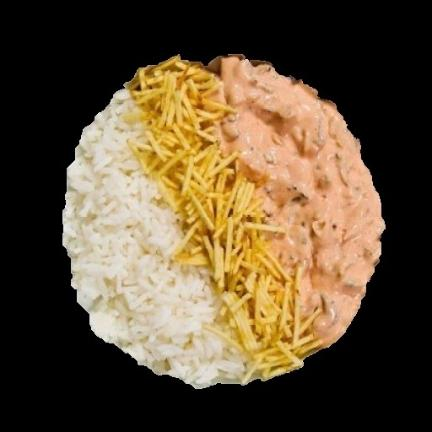chicken: (218, 57, 378, 351)
potato: (126, 63, 314, 382)
rice: (61, 93, 254, 388)
